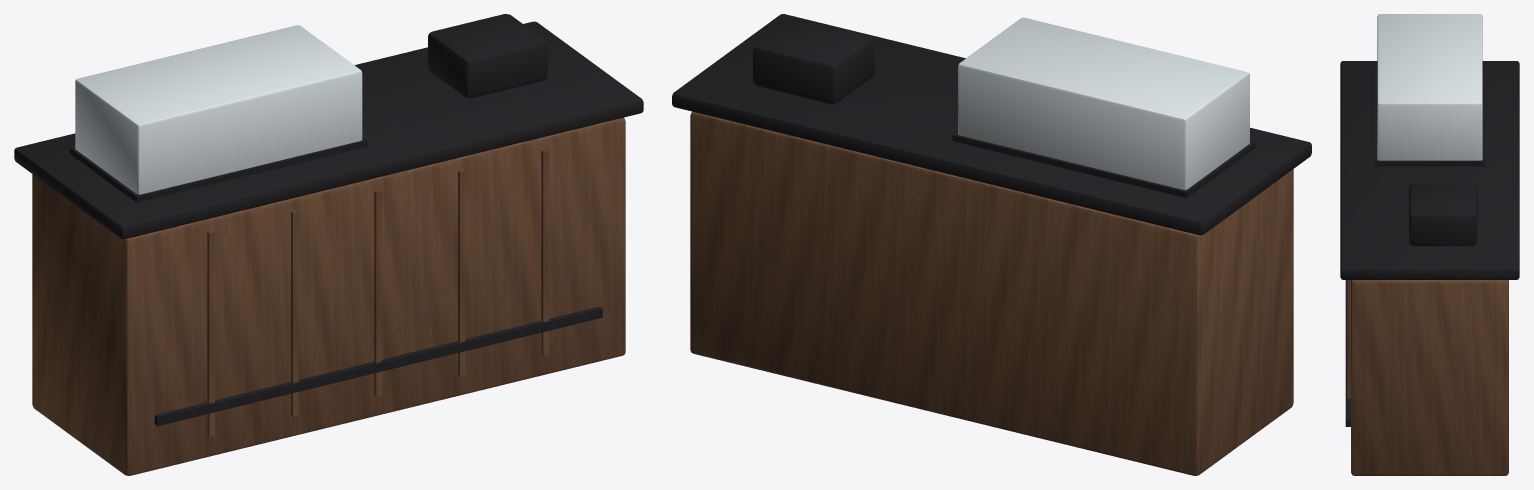
The model's file is balcao.glb.
3 views of the same model, side by side, from view 1: azimuth 30°, elevation 25°; view 2: azimuth 150°, elevation 25°; view 3: azimuth 270°, elevation 25° (orthographic). The views are drawn at different scales.
Visible parts, largest first — view 1: corpo, tampo, vitrine, caixa-registradora, rodape, base-da-vitrine, ripa.001, ripa.003, ripa, ripa.002, ripa.004; view 2: corpo, vitrine, tampo, caixa-registradora, base-da-vitrine; view 3: corpo, tampo, vitrine, caixa-registradora, base-da-vitrine, rodape, ripa.004.
Part boxes in pixels (box(x1,y1,x2,y2)): corpo: box(32, 117, 625, 475); tampo: box(14, 21, 643, 239); vitrine: box(75, 25, 362, 194); caixa-registradora: box(428, 14, 547, 98); rodape: box(154, 306, 602, 425); base-da-vitrine: box(69, 137, 367, 202); ripa.001: box(291, 210, 298, 416); ripa.003: box(458, 169, 465, 375); ripa: box(207, 230, 214, 436); ripa.002: box(374, 190, 381, 396); ripa.004: box(541, 149, 548, 355); corpo: box(690, 111, 1293, 475); vitrine: box(958, 17, 1249, 189); tampo: box(672, 14, 1311, 235); caixa-registradora: box(753, 18, 874, 103); base-da-vitrine: box(952, 131, 1255, 198); corpo: box(1351, 280, 1508, 475); tampo: box(1340, 61, 1519, 279); vitrine: box(1377, 14, 1482, 160); caixa-registradora: box(1409, 183, 1477, 245); base-da-vitrine: box(1374, 69, 1485, 166); rodape: box(1345, 280, 1350, 426); ripa.004: box(1347, 280, 1350, 398).
Size of the model in its own units: 1.88 by 1.15 by 0.68.
3 materials, 1 textured.
